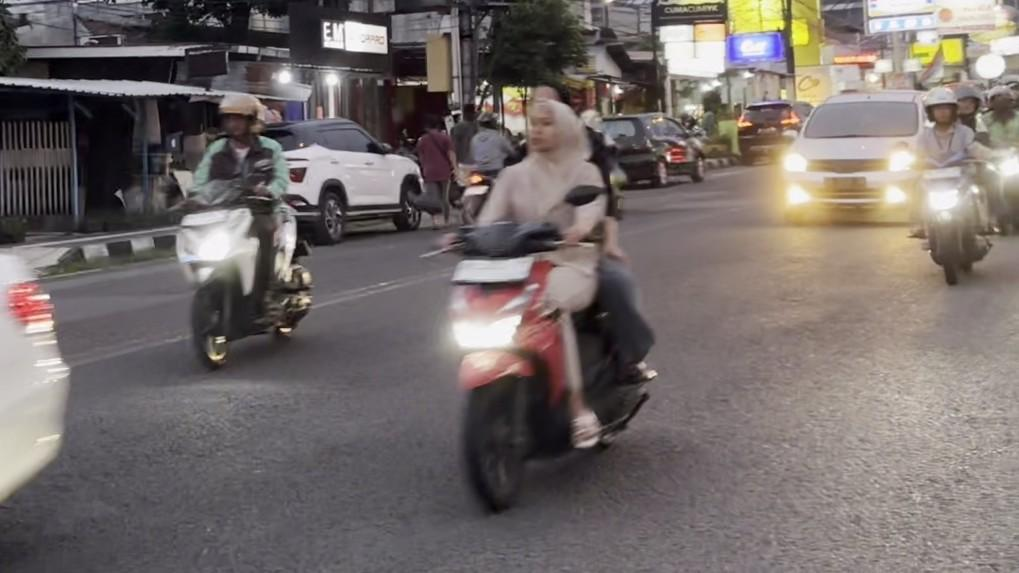helm: (216, 91, 267, 142), (922, 85, 960, 127), (956, 87, 986, 119)
nohelm: (527, 97, 578, 155)
riding: (443, 96, 661, 516), (165, 90, 315, 369), (902, 82, 997, 286)
